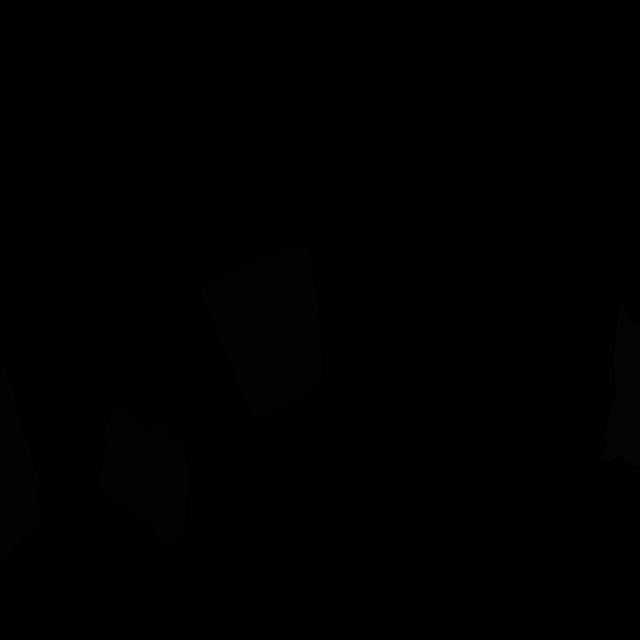cardboard: (201, 246, 322, 415), (100, 404, 188, 541), (0, 364, 40, 560)
soft_plastic: (601, 306, 640, 467)
